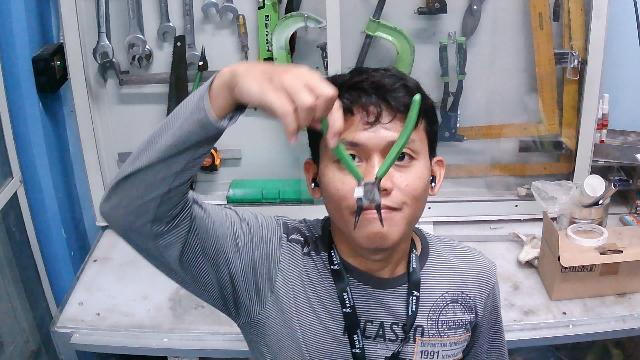tang_cucut_lancip_1: (301, 83, 437, 236)
